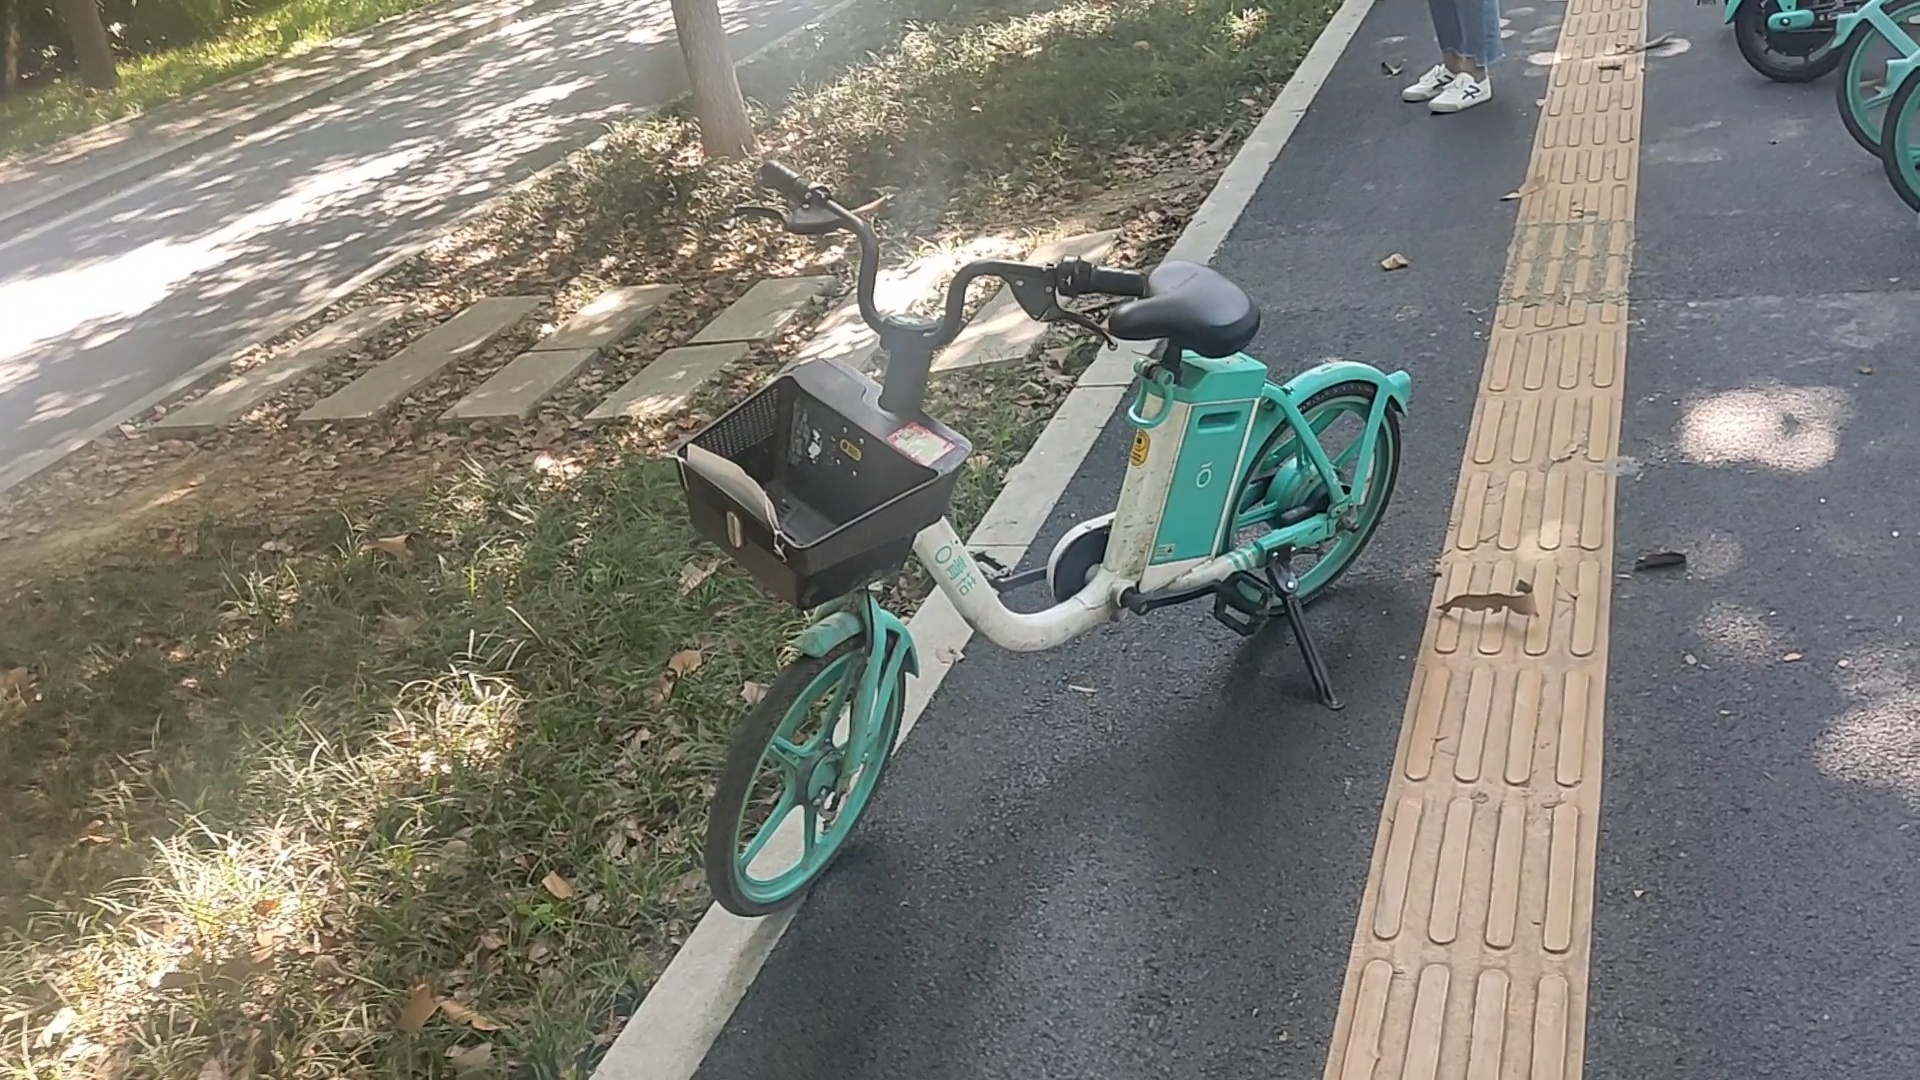non-vehicle: (669, 239, 1419, 927), (1706, 0, 1919, 82)
